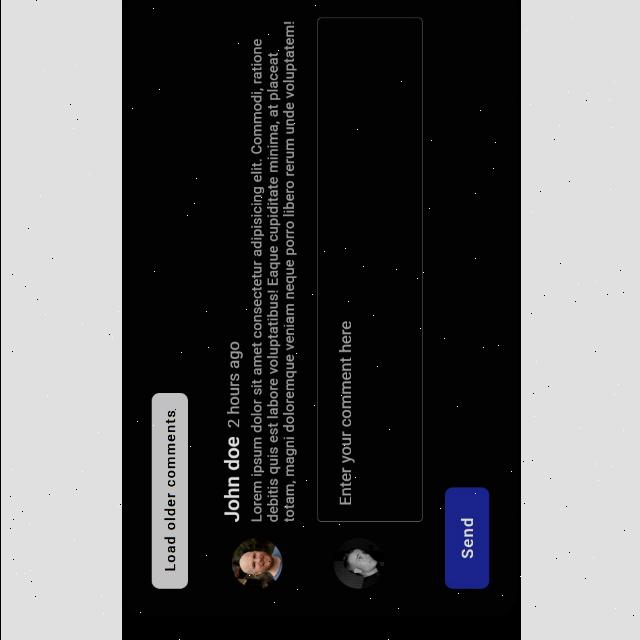QLabel: (248, 20, 296, 524), (162, 410, 174, 572), (221, 436, 239, 522), (225, 340, 241, 430), (459, 516, 473, 562)
VAvatar: (229, 538, 281, 590), (332, 538, 384, 590)
VBtn: (148, 392, 188, 590), (442, 488, 488, 588)
VCard: (121, 1, 519, 622)
VTextarea: (313, 15, 423, 525)
